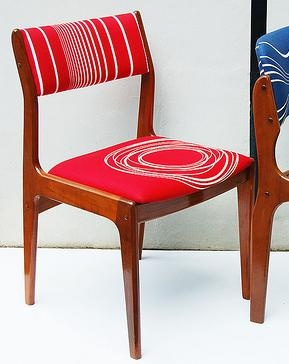obstacle: (12, 12, 252, 358)
